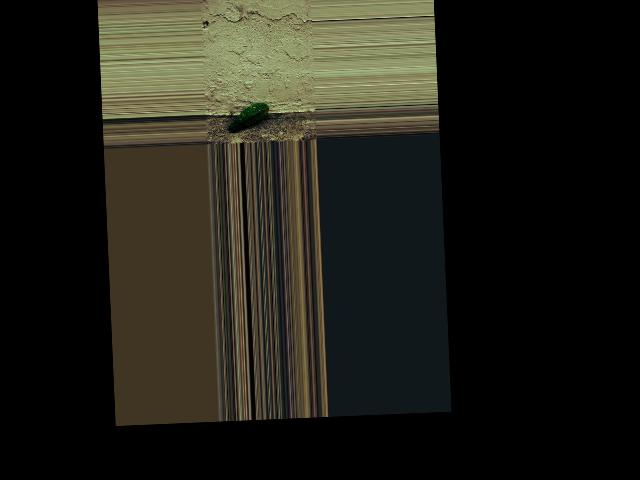cucumber: (228, 101, 270, 131)
